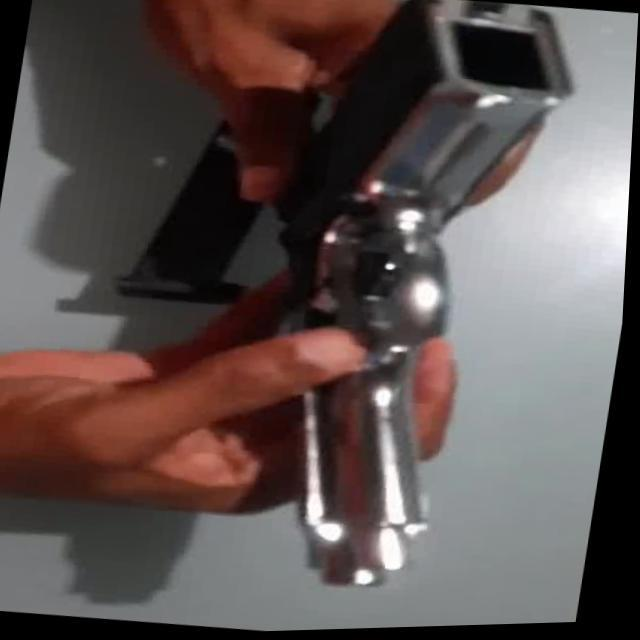weapon: (75, 0, 589, 610)
